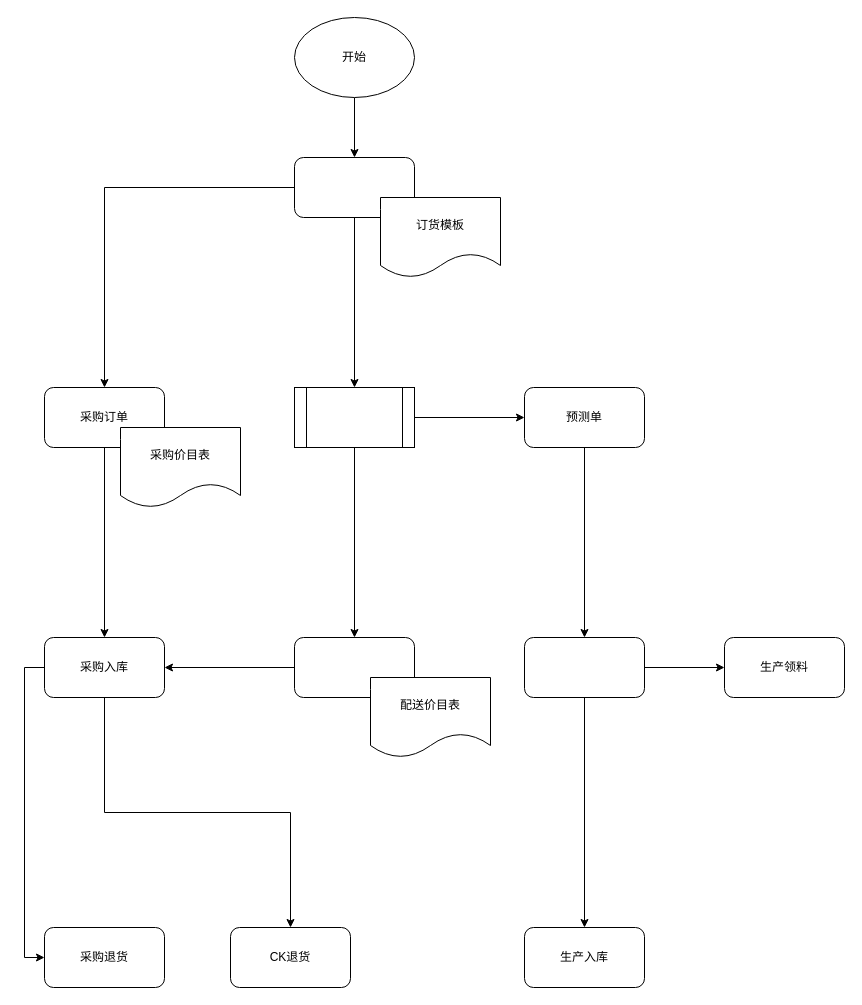
Image size: 862x1005. Some labels were removed from this diagram. The box of each missing label's shape, as (x1, y1, x2, y2) in pixels:
生产订单: (524, 636, 644, 698)
订单工作台: (294, 386, 414, 448)
配送出库单: (294, 636, 414, 698)
门店要货申请: (294, 156, 414, 218)
